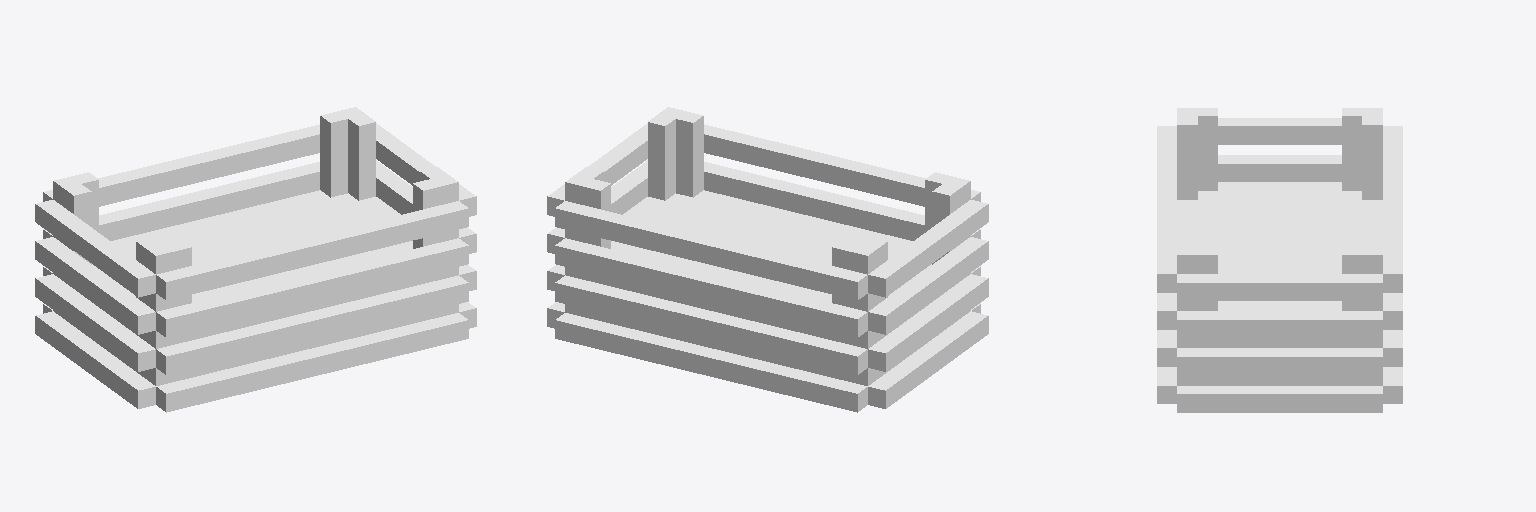
The model's file is Box_Wheat_Level_2.obj.
The picture shows the model from 3 angles: view 1: azimuth 30°, elevation 25°; view 2: azimuth 150°, elevation 25°; view 3: azimuth 270°, elevation 25°; orthographic projection.
Visible parts, largest first — view 1: Box_Wheat_Level_2; view 2: Box_Wheat_Level_2; view 3: Box_Wheat_Level_2.
Part boxes in pixels (left/top/right/bottom): Box_Wheat_Level_2: left=35, top=107, right=476, bottom=412; Box_Wheat_Level_2: left=547, top=107, right=988, bottom=412; Box_Wheat_Level_2: left=1157, top=108, right=1402, bottom=412.
Bounding box in the file's own units: 19 × 8 × 12.